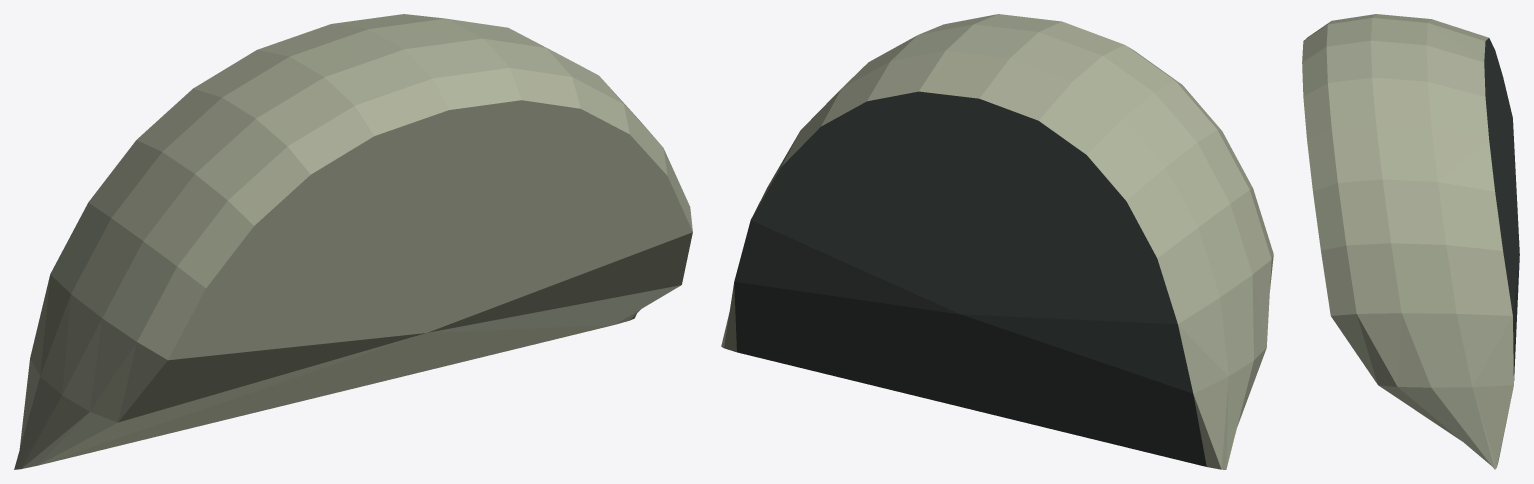
Rendered from centipede_segment_4.obj.
3 views of the same model, side by side, from view 1: azimuth 30°, elevation 25°; view 2: azimuth 150°, elevation 25°; view 3: azimuth 270°, elevation 25° (orthographic). The views are drawn at different scales.
Parts seen in each view (by area): view 1: centipede_segment_4; view 2: centipede_segment_4; view 3: centipede_segment_4.
Boxes of the visible parts, x1,y1,x2,y2 form: centipede_segment_4: [14, 14, 692, 469]; centipede_segment_4: [721, 14, 1273, 469]; centipede_segment_4: [1302, 14, 1519, 469].
Bounding box in the file's own units: 1.4 × 0.87 × 0.5499.
